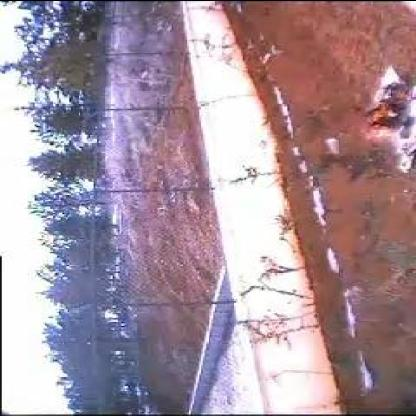foggia-v2-map80-epoch100 - v1 4323: (368, 126, 394, 146)
